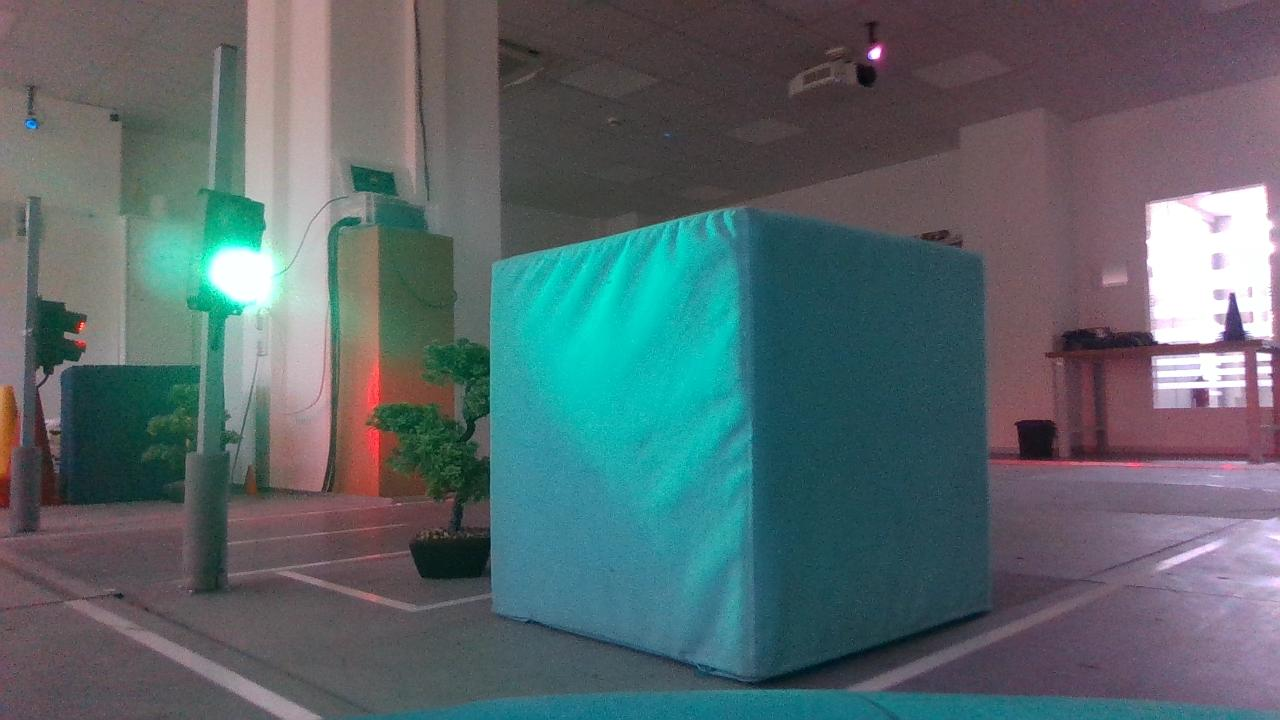traffic_light_green: (171, 174, 293, 326)
